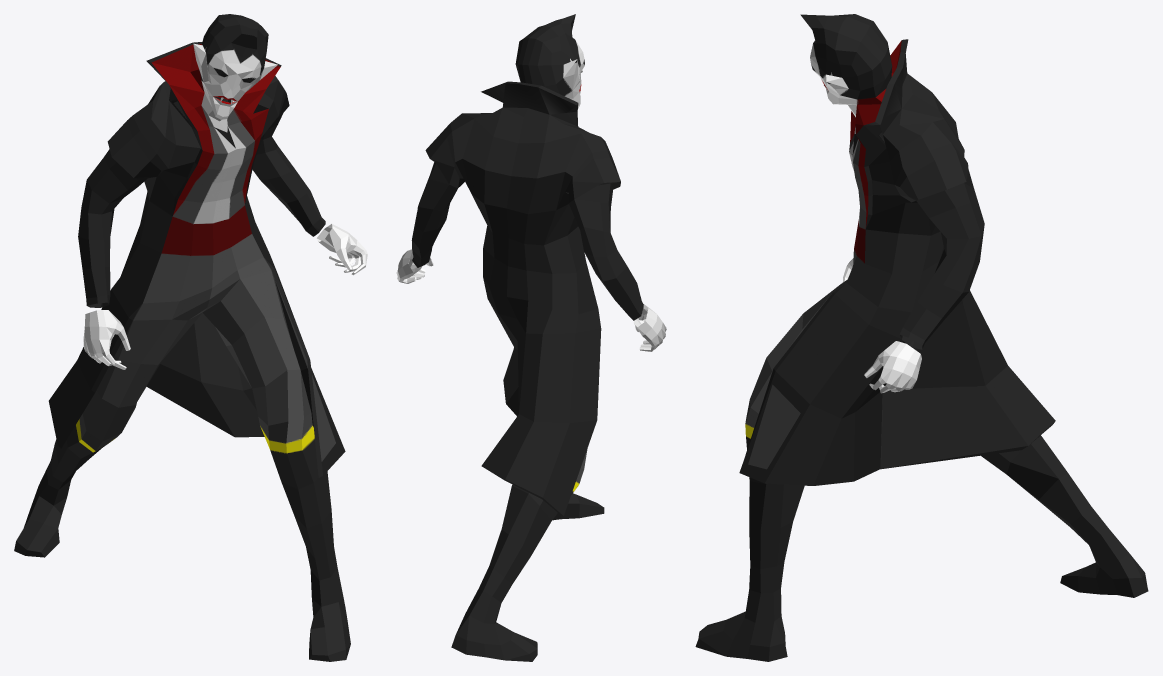
File: VampireIdle(49).obj
The picture shows the model from 3 angles, left to right: view 1: azimuth 30°, elevation 25°; view 2: azimuth 150°, elevation 25°; view 3: azimuth 270°, elevation 25°; orthographic projection. The views are drawn at different scales.
Visible parts, largest first — view 1: Plane002; view 2: Plane002; view 3: Plane002.
Part boxes in pixels (x1,y1,x2,y2): Plane002: [14, 14, 367, 661]; Plane002: [396, 14, 666, 661]; Plane002: [695, 14, 1148, 661].
Bounding box in the file's own units: 150 × 300 × 201.
